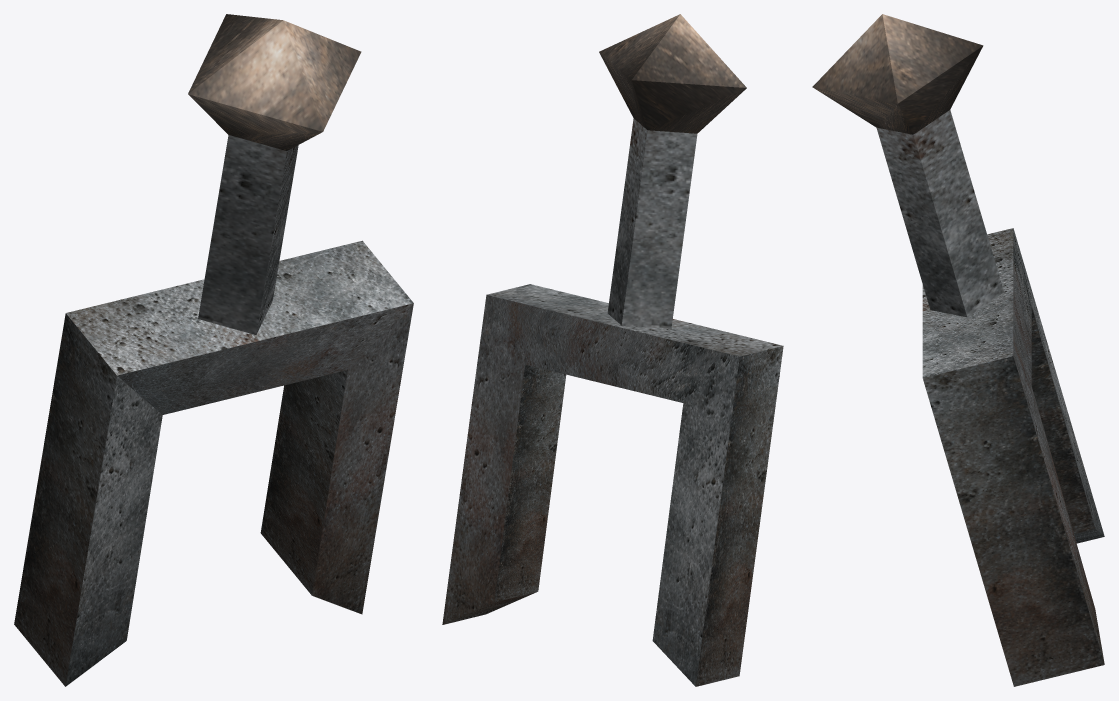
The model's file is mm9_deco_switch02_lever.glb.
3 views of the same model, side by side, from view 1: azimuth 30°, elevation 25°; view 2: azimuth 150°, elevation 25°; view 3: azimuth 270°, elevation 25° (orthographic). The views are drawn at different scales.
Visible parts, largest first — view 1: Switch02; view 2: Switch02; view 3: Switch02.
Part boxes in pixels (left/top/right/bottom): Switch02: left=14, top=14, right=413, bottom=686; Switch02: left=442, top=14, right=783, bottom=686; Switch02: left=812, top=14, right=1104, bottom=686.
Size of the model in its own units: 0.1415 by 0.3125 by 0.1365.
Materials: 1 (1 with a texture image).
